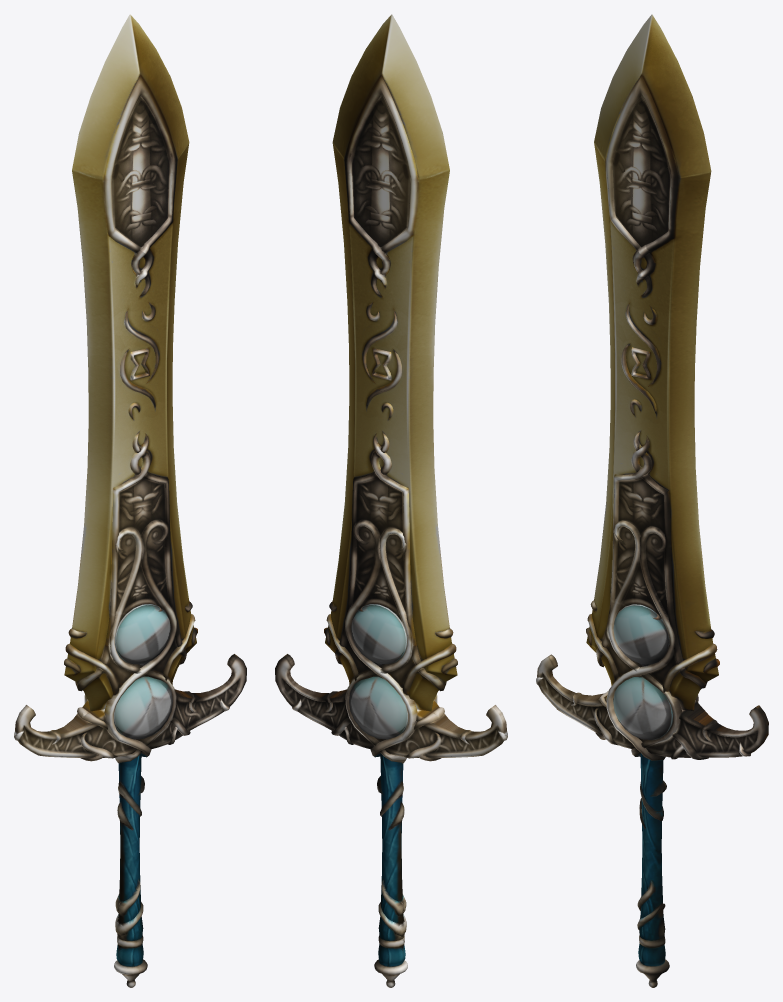
Rendered from sm_sword_176.gltf.
The picture shows the model from 3 angles, left to right: view 1: azimuth 30°, elevation 25°; view 2: azimuth 150°, elevation 25°; view 3: azimuth 330°, elevation 25°; orthographic projection.
Visible parts, largest first — view 1: SM_Sword_176; view 2: SM_Sword_176; view 3: SM_Sword_176.
Boxes of the visible parts, bbox=[...] form: SM_Sword_176: bbox=[14, 14, 246, 987]; SM_Sword_176: bbox=[275, 14, 507, 987]; SM_Sword_176: bbox=[536, 14, 768, 987].
Size of the model in its own units: 0.3727 by 1.5 by 0.0936.
Materials: 1 (1 with a texture image).
